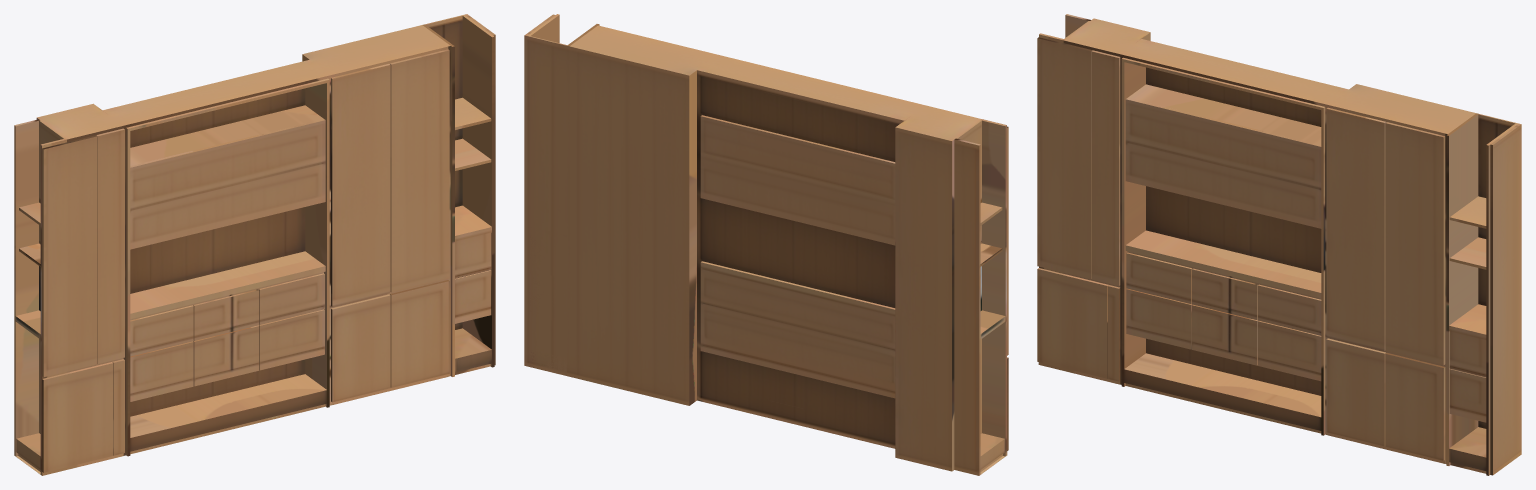
Rendered from edited_mesh.glb.
The picture shows the model from 3 angles, left to right: view 1: azimuth 30°, elevation 25°; view 2: azimuth 150°, elevation 25°; view 3: azimuth 330°, elevation 25°; orthographic projection.
Parts seen in each view (by area): view 1: solid_001_wire; view 2: solid_001_wire; view 3: solid_001_wire.
Boxes of the visible parts, x1,y1,x2,y2 form: solid_001_wire: (14, 14, 495, 475); solid_001_wire: (524, 14, 1008, 475); solid_001_wire: (1037, 14, 1521, 475).
Size of the model in its own units: 1.67 by 1.16 by 0.2019.
1 material, 1 textured.
